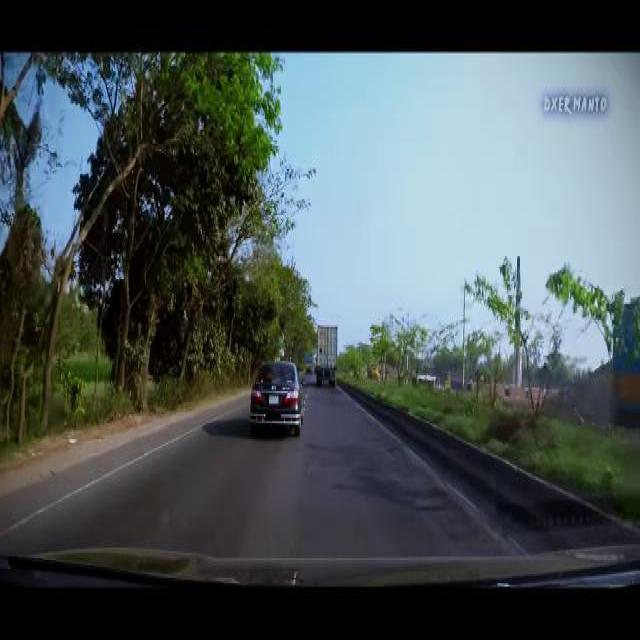car: (247, 357, 306, 439)
pickup: (304, 353, 314, 372)
truck: (314, 322, 338, 386), (365, 361, 379, 379)
